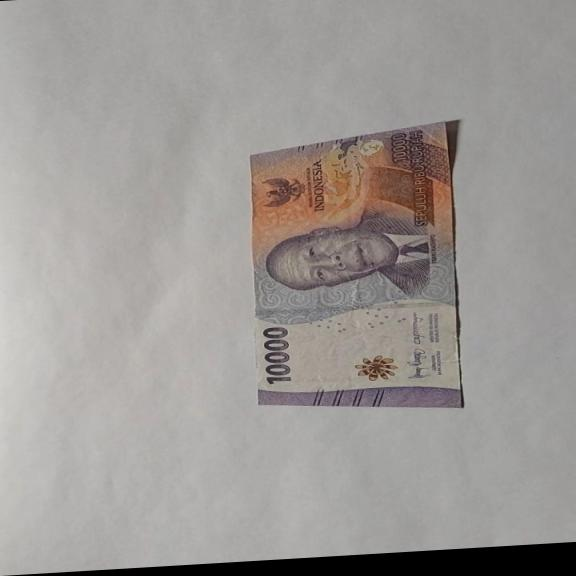Kertas: (248, 118, 465, 420), (260, 325, 293, 386)
